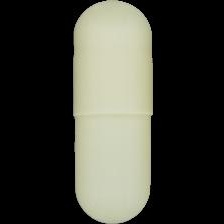53217-254: (0, 0, 224, 224)
